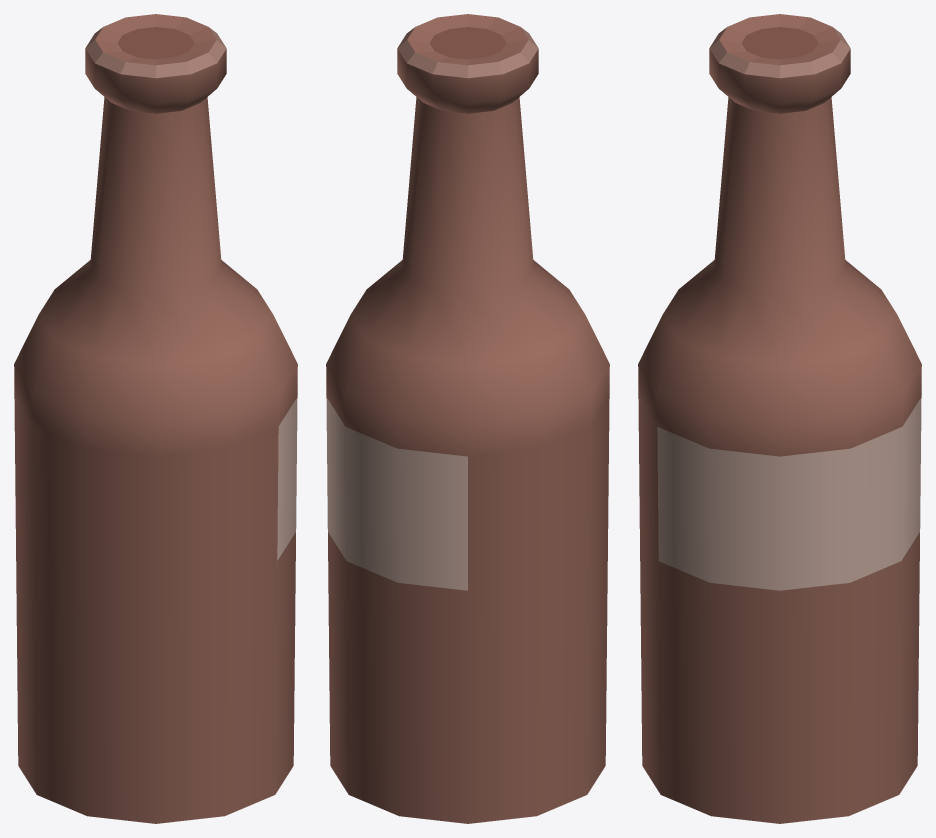
File: Beerbotle.fbx
3 renders of one model, left to right at view 1: azimuth 30°, elevation 25°; view 2: azimuth 150°, elevation 25°; view 3: azimuth 270°, elevation 25°, orthographic.
Parts seen in each view (by area): view 1: Beerbottle; view 2: Beerbottle; view 3: Beerbottle.
Part boxes in pixels (<box>): Beerbottle: <box>14,14,297,823</box>; Beerbottle: <box>326,14,609,823</box>; Beerbottle: <box>638,14,921,823</box>.
Bounding box in the file's own units: 20.63 × 58.25 × 20.63.
Materials: 1 (1 with a texture image).
